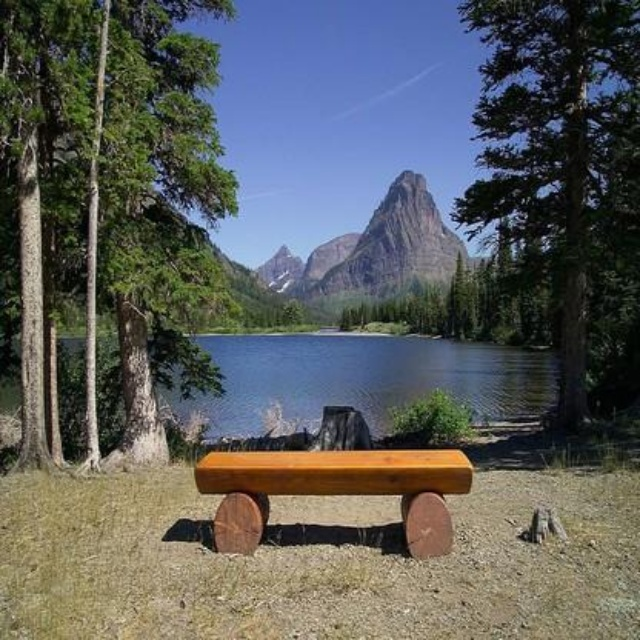obstacle: (197, 431, 480, 569)
